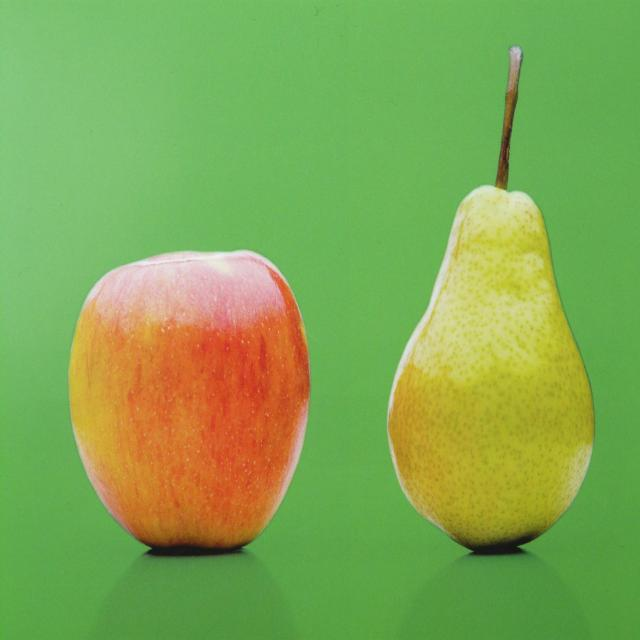manzana: (55, 238, 320, 578)
pera: (373, 39, 605, 577)
